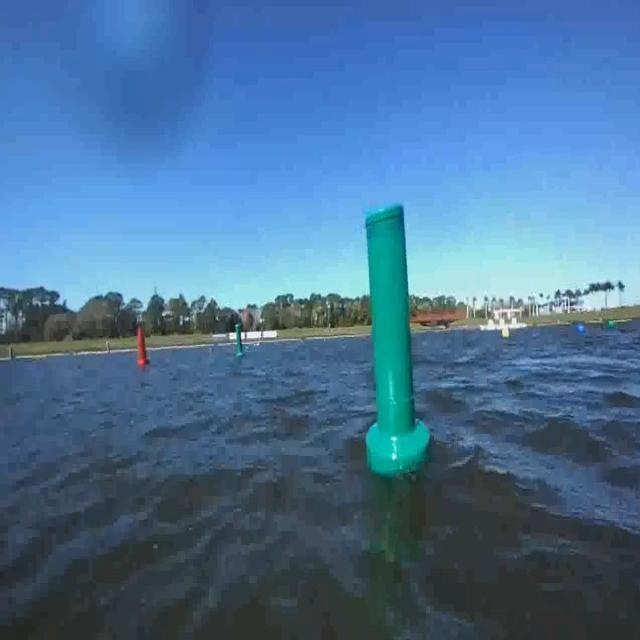blue-buoy: (575, 324, 585, 339)
green-buoy: (608, 319, 614, 330)
green-column-buoy: (364, 202, 431, 478), (236, 324, 247, 358)
red-column-buoy: (136, 327, 150, 366)
yellow-buoy: (501, 326, 508, 339)
